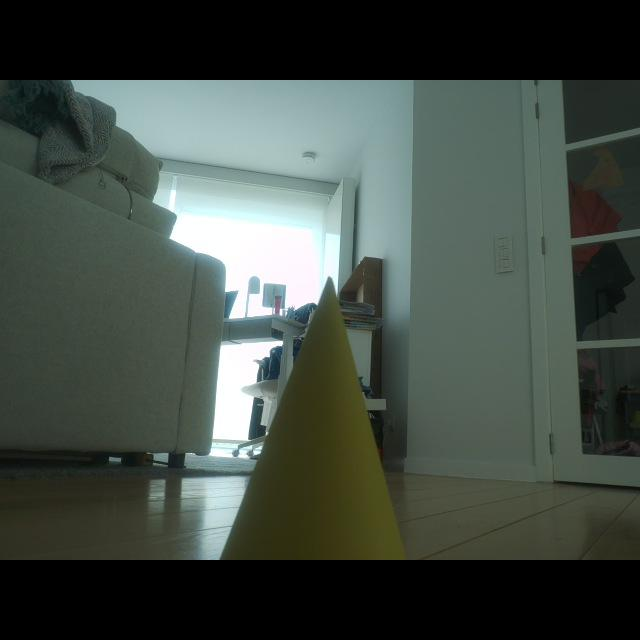bolya: (221, 281, 404, 559)
